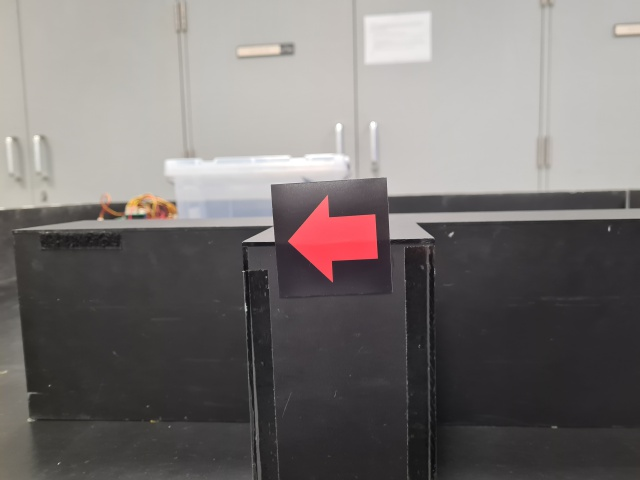left_arrow: (270, 178, 394, 298)
